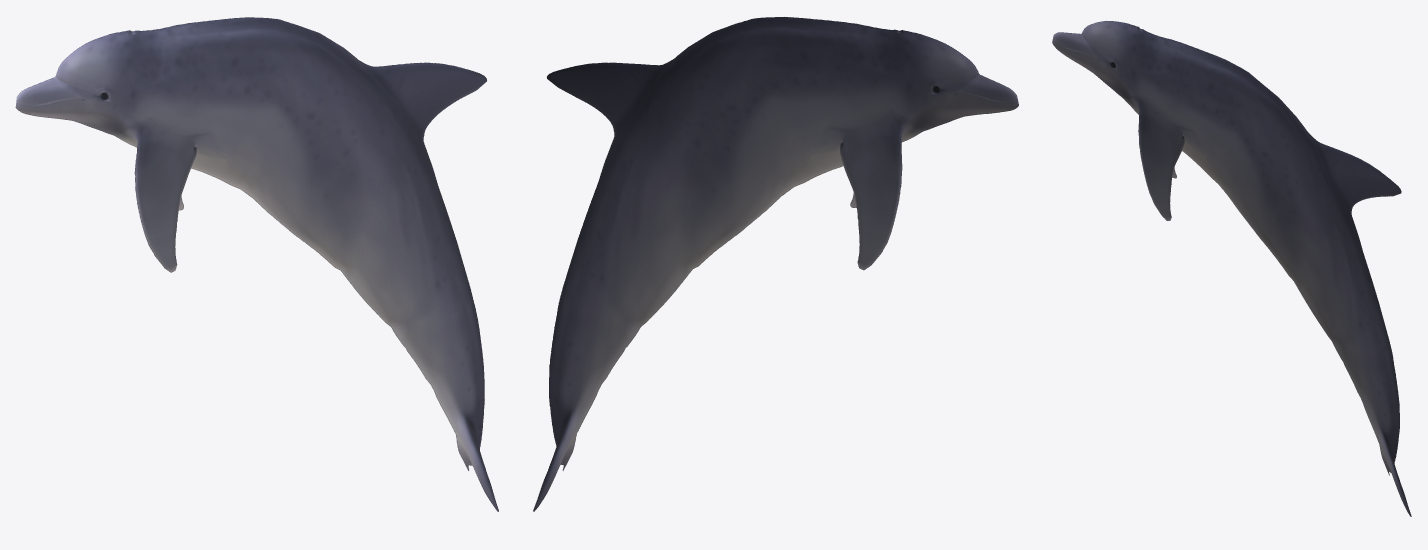
File: haitun.FBX
3 views of the same model, side by side, from view 1: azimuth 30°, elevation 25°; view 2: azimuth 150°, elevation 25°; view 3: azimuth 330°, elevation 25° (orthographic). The views are drawn at different scales.
Visible parts, largest first — view 1: Plane007; view 2: Plane007; view 3: Plane007.
Part boxes in pixels (x1,y1,x2,y2): Plane007: [15, 17, 498, 511]; Plane007: [533, 17, 1018, 511]; Plane007: [1052, 20, 1411, 516].
Size of the model in its own units: 2098 by 2474 by 56.77.
